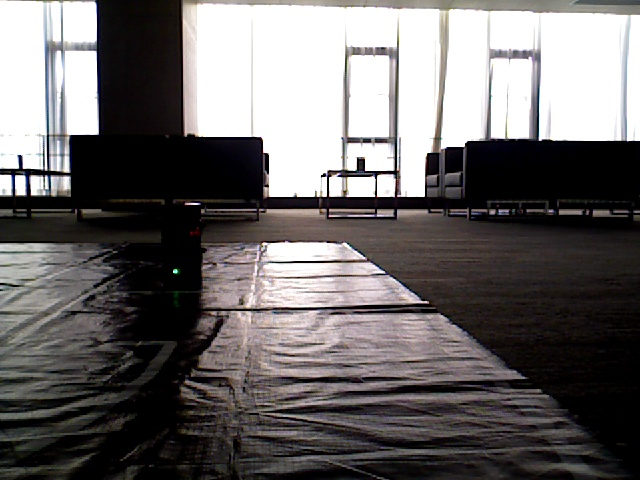green: (166, 214, 191, 289)
